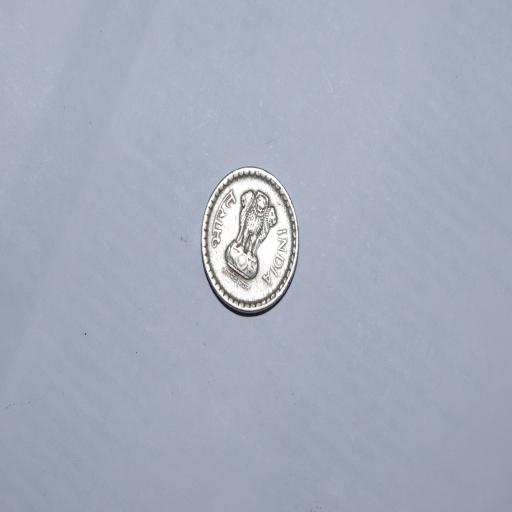rupee5: (196, 163, 302, 319)
